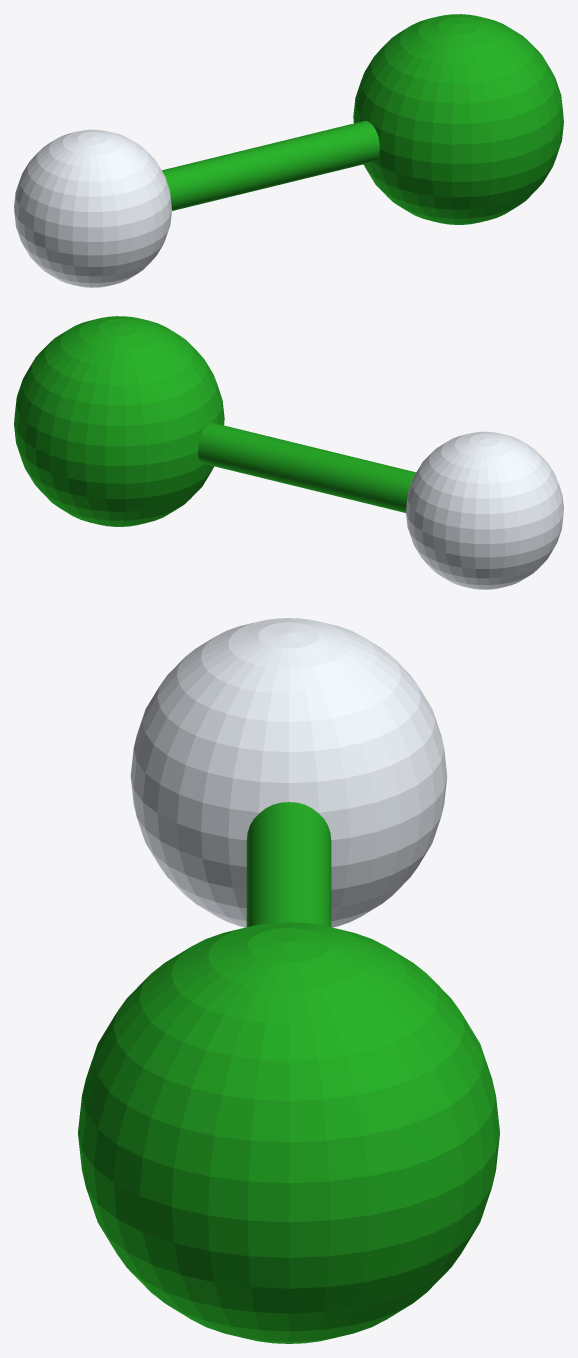
File: hydrogen_chloride.fbx
3 renders of one model, top to bottom at view 1: azimuth 30°, elevation 25°; view 2: azimuth 150°, elevation 25°; view 3: azimuth 270°, elevation 25°, orthographic. The views are drawn at different scales.
Visible parts, largest first — view 1: hydrogen_chloride; view 2: hydrogen_chloride; view 3: hydrogen_chloride.
Boxes of the visible parts, box(x1,y1,x2,y2) form: hydrogen_chloride: box(14, 14, 563, 287); hydrogen_chloride: box(14, 316, 563, 589); hydrogen_chloride: box(78, 618, 499, 1343).
Bounding box in the file's own units: 115 × 40 × 40.
